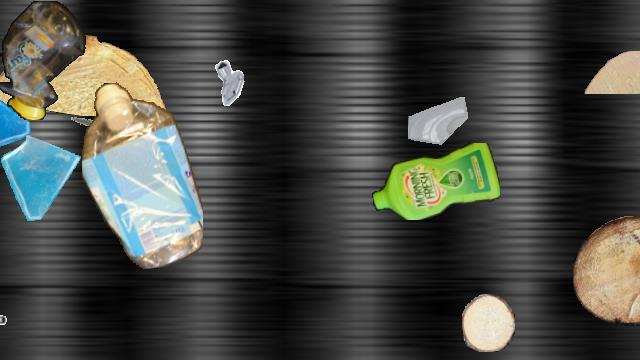glass: (0, 133, 87, 225), (408, 96, 470, 158), (0, 76, 35, 164)
metal: (208, 57, 256, 105), (66, 104, 110, 148), (0, 303, 16, 359), (0, 50, 11, 108), (0, 156, 1, 194)
plastic: (82, 81, 202, 269), (0, 1, 87, 119), (372, 143, 500, 219)
wood: (0, 35, 177, 115), (573, 216, 640, 326), (462, 294, 514, 352), (584, 51, 640, 93)
